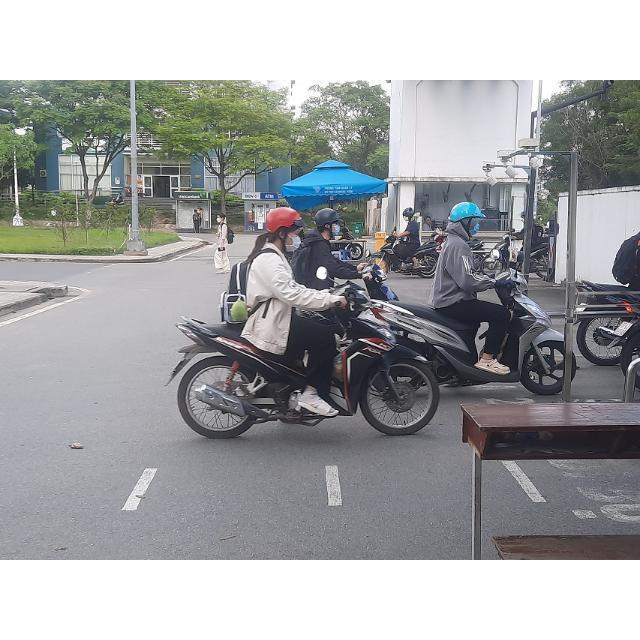Helmet: (264, 206, 306, 252), (449, 203, 485, 237), (314, 209, 344, 239)
